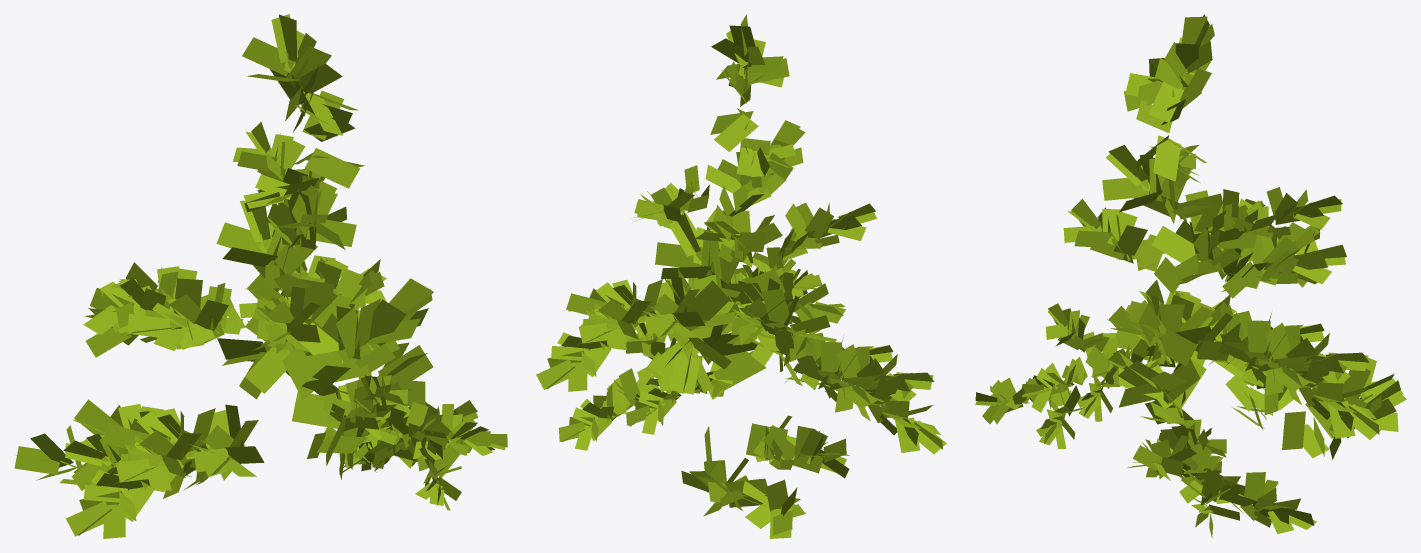
The model's file is Vegetation_Modular_Tree_Foliage_Fir_Small_01.fbx.
3 views of the same model, side by side, from view 1: azimuth 30°, elevation 25°; view 2: azimuth 150°, elevation 25°; view 3: azimuth 270°, elevation 25° (orthographic). The views are drawn at different scales.
Parts seen in each view (by area): view 1: Vegetation_Modular_Tree_Foliage_Fir_Small_01; view 2: Vegetation_Modular_Tree_Foliage_Fir_Small_01; view 3: Vegetation_Modular_Tree_Foliage_Fir_Small_01.
Part boxes in pixels (bbox=[...]): Vegetation_Modular_Tree_Foliage_Fir_Small_01: bbox=[14, 14, 507, 538]; Vegetation_Modular_Tree_Foliage_Fir_Small_01: bbox=[536, 14, 946, 538]; Vegetation_Modular_Tree_Foliage_Fir_Small_01: bbox=[975, 14, 1406, 538].
Bounding box in the file's own units: 4035 × 4871 × 4174.
